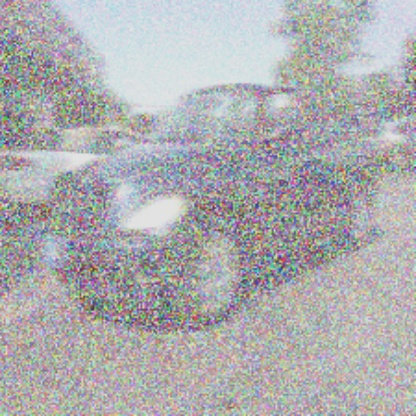Vehicle: (40, 83, 380, 334)
